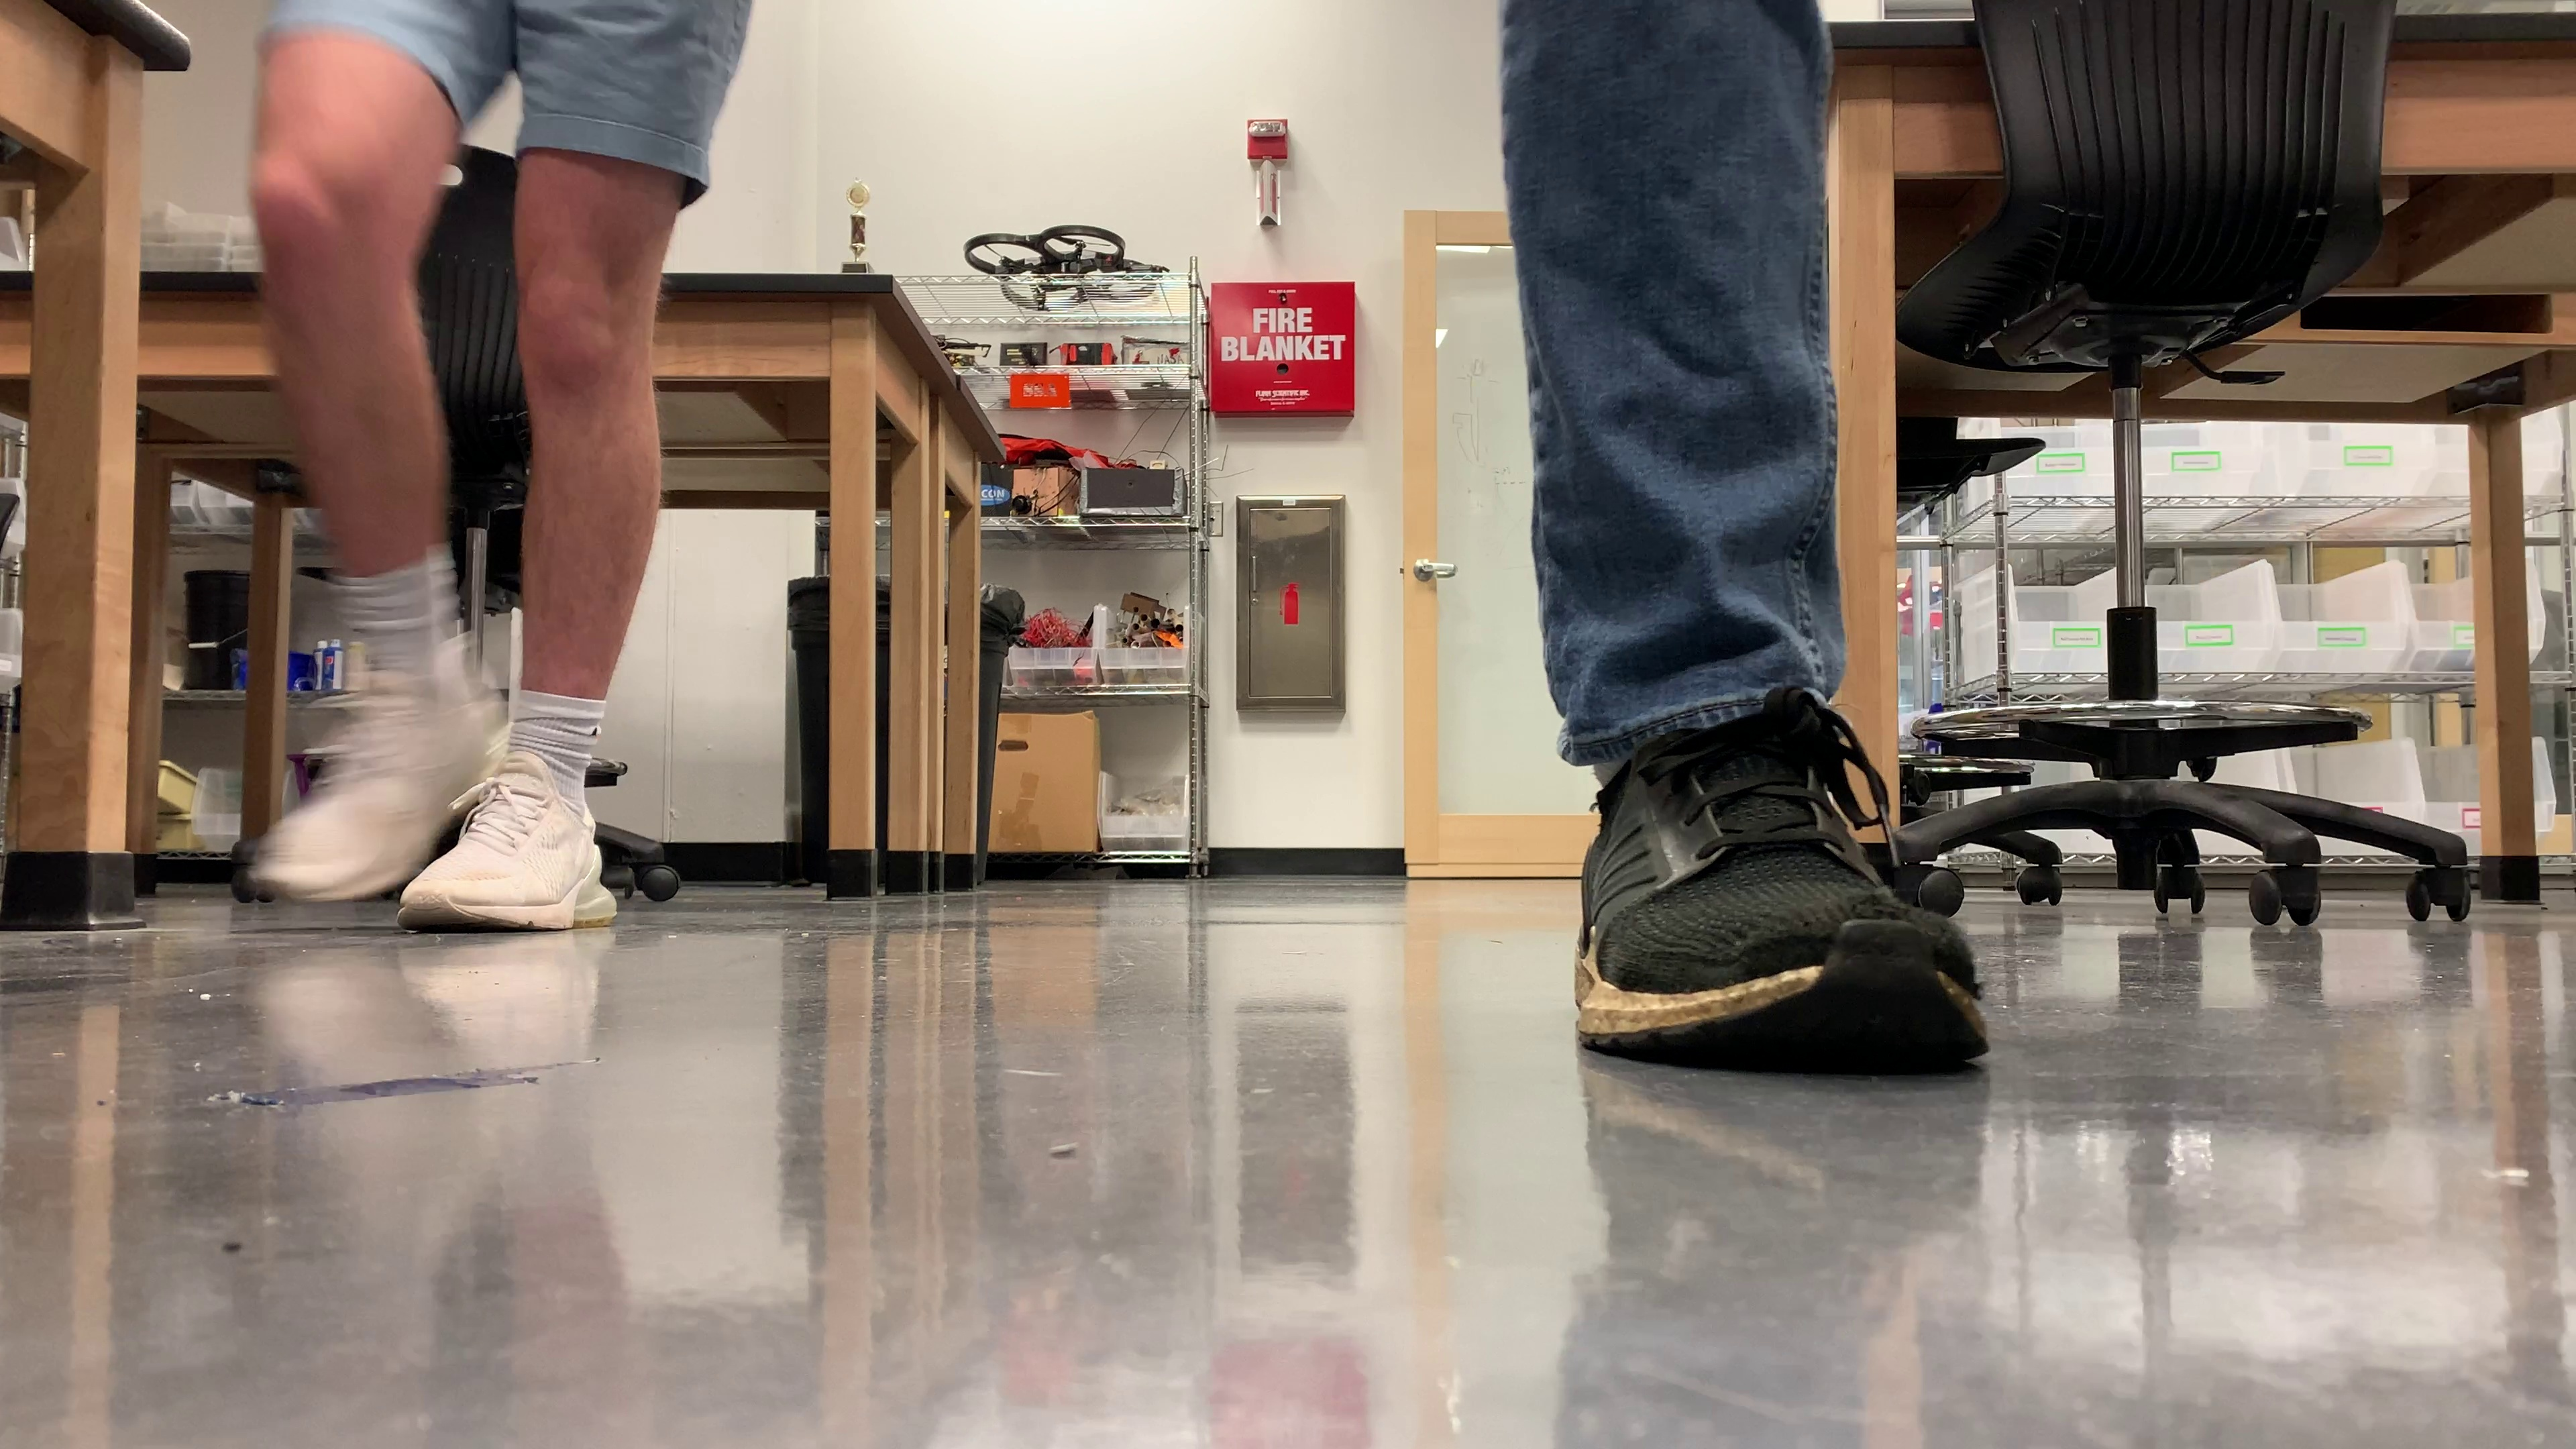shoe: (1576, 727, 1985, 1069), (398, 752, 617, 932)
